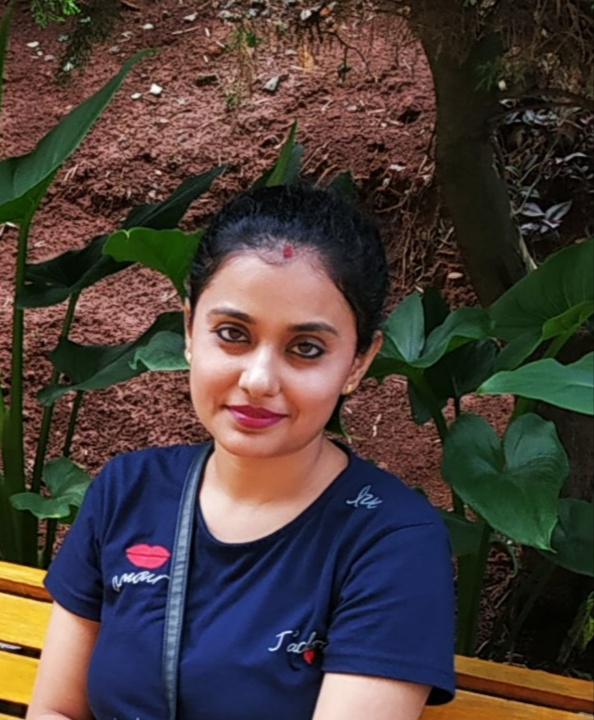without_mask: (184, 219, 383, 474)
